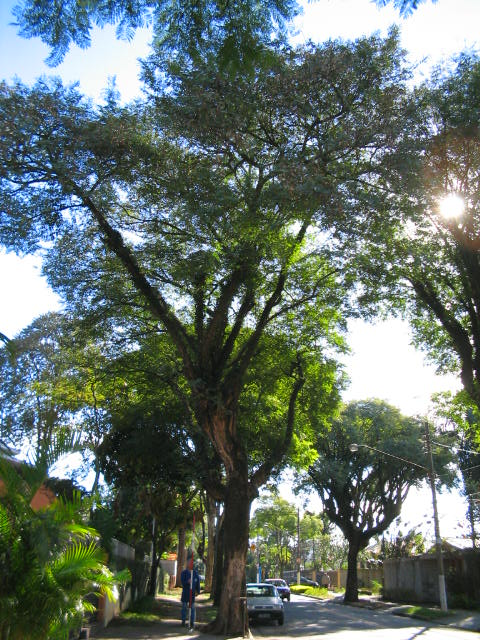crown: (5, 30, 446, 338)
stem: (197, 398, 269, 638)
stick: (182, 509, 201, 628)
tree: (1, 27, 447, 637)
